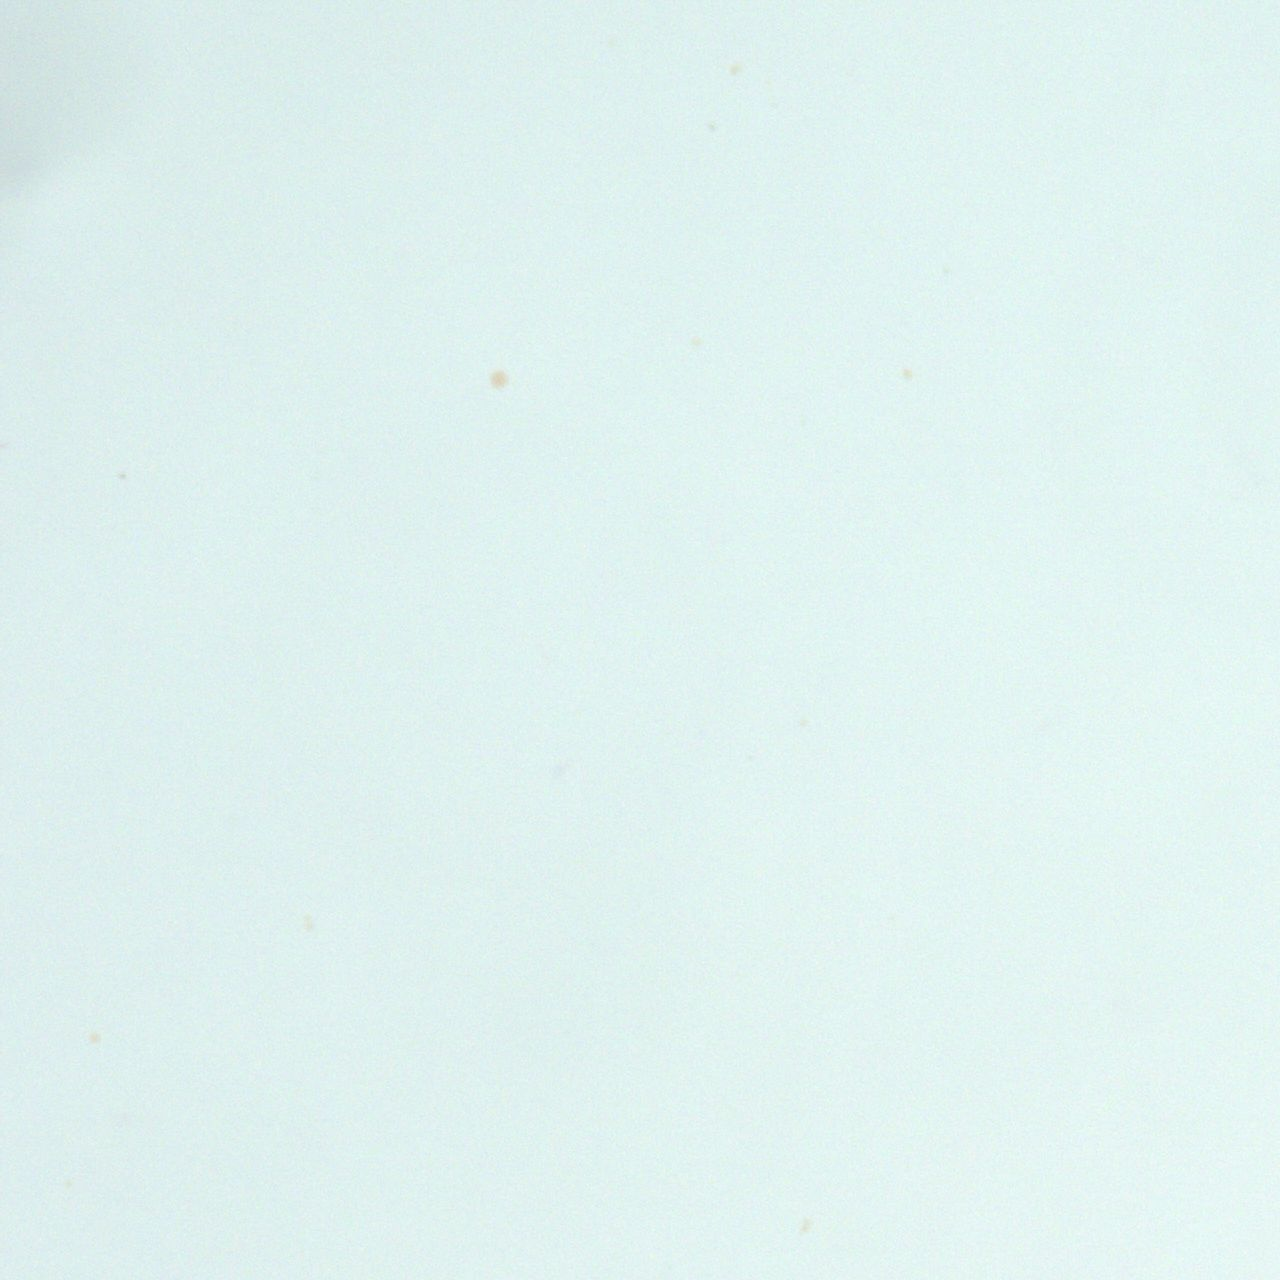dust: (491, 370, 506, 388), (799, 1218, 812, 1235), (302, 915, 314, 932), (900, 369, 912, 381), (89, 1034, 98, 1044), (729, 66, 738, 75), (692, 336, 699, 346)
